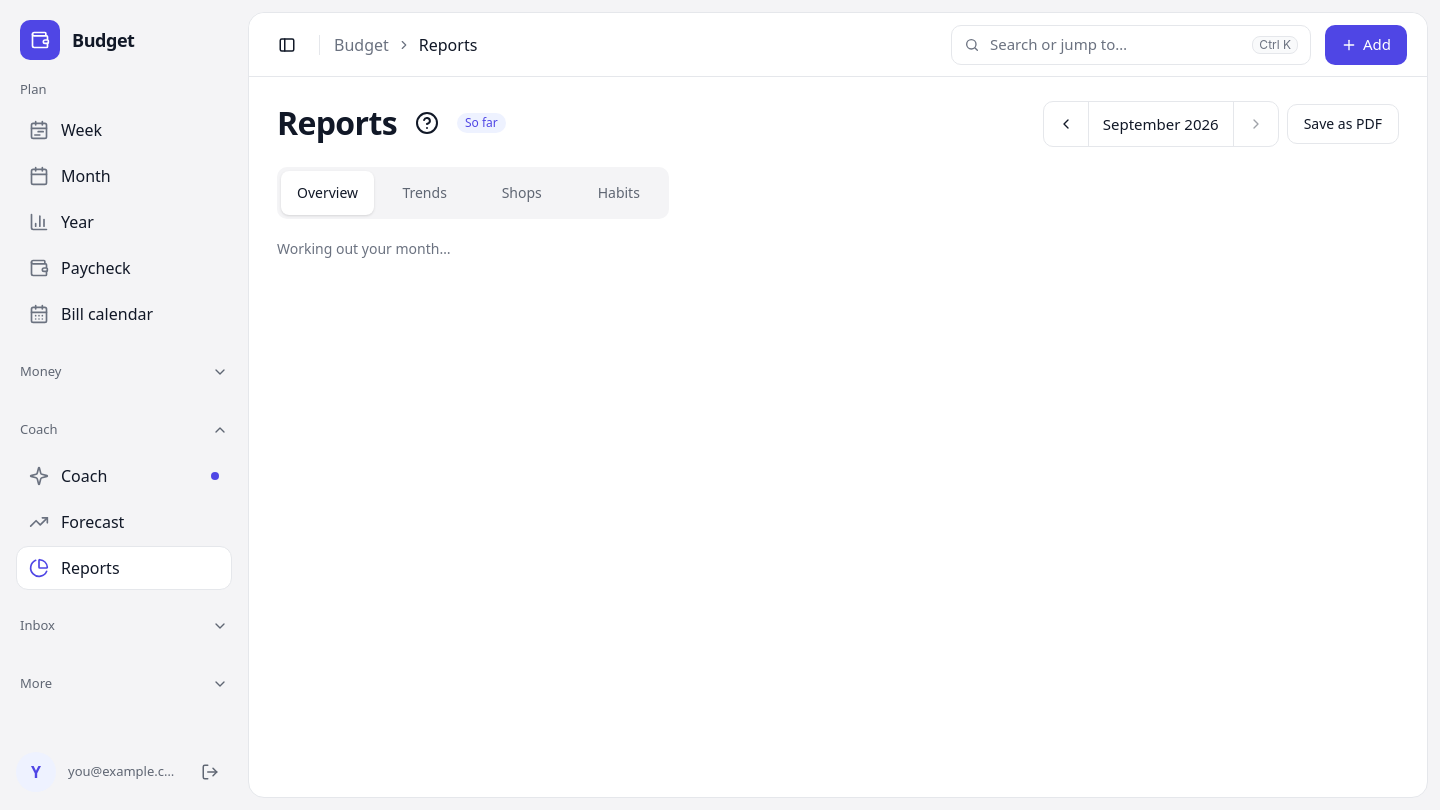
Test case: Reports, Habits: the spending grid (plan §2.6, A18) › with no weekly budget, sets each day against the usual day of spending
Click the tab "Habits".
click(619, 193)  # box [572,171,665,215]
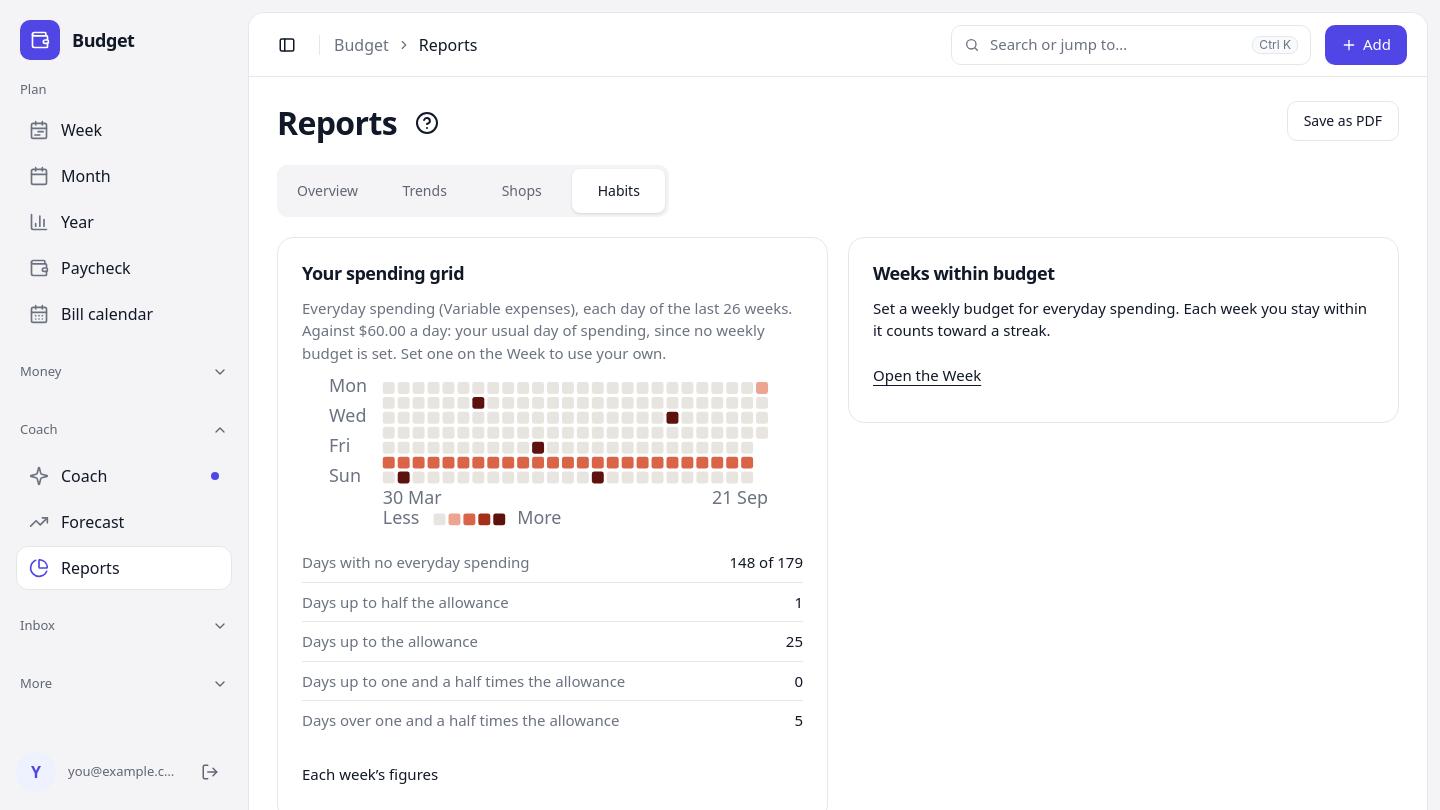
Now the text "Against $60.00 a day: your usual day of spending, since no weekly budget is set." is shown, box [302,320,765,362]
